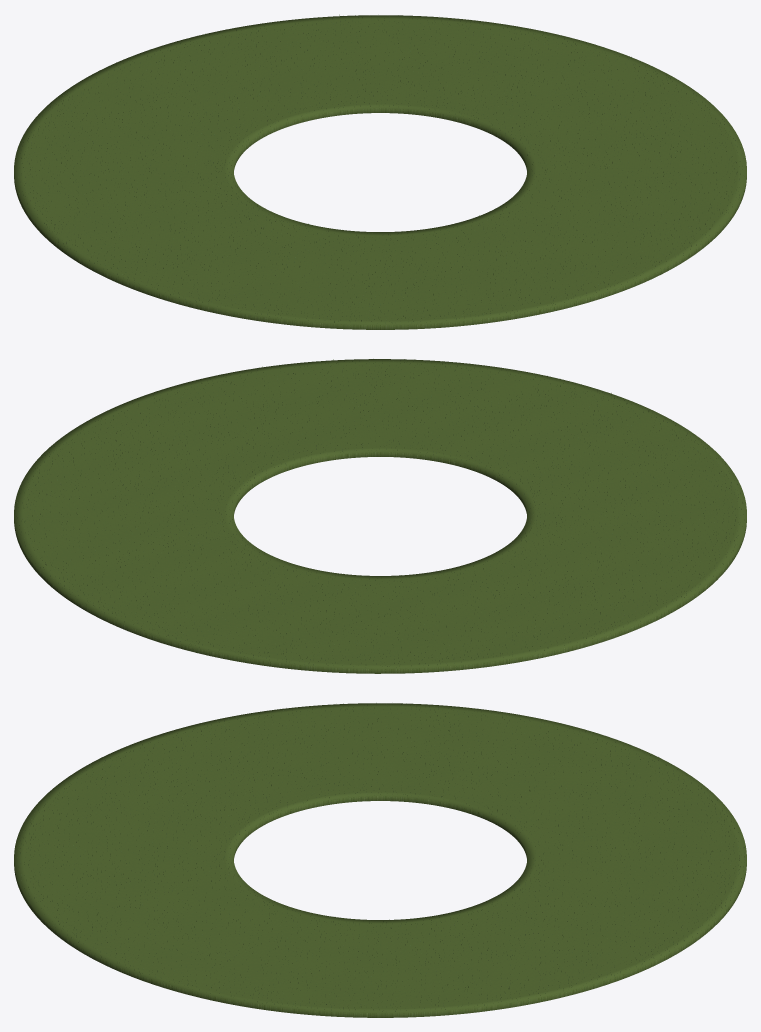
The model's file is arrivalLawnRelief.glb.
3 renders of one model, top to bottom at view 1: azimuth 30°, elevation 25°; view 2: azimuth 150°, elevation 25°; view 3: azimuth 270°, elevation 25°, orthographic.
Parts seen in each view (by area): view 1: Arrival landscaped turf annulus, Bent grass tile 0 1.001, Bent grass tile 1 1.001, Bent grass tile 0 0.001, Bent grass tile 1 0.001; view 2: Arrival landscaped turf annulus, Bent grass tile 1 0.001, Bent grass tile 0 0.001, Bent grass tile 0 1.001, Bent grass tile 1 1.001; view 3: Arrival landscaped turf annulus, Bent grass tile 0 1.001, Bent grass tile 1 0.001, Bent grass tile 1 1.001, Bent grass tile 0 0.001.
Boxes of the visible parts, bbox=[...] form: Arrival landscaped turf annulus: bbox=[14, 15, 746, 329]; Bent grass tile 0 1.001: bbox=[67, 203, 555, 323]; Bent grass tile 1 1.001: bbox=[462, 93, 744, 302]; Bent grass tile 0 0.001: bbox=[17, 38, 302, 246]; Bent grass tile 1 0.001: bbox=[205, 14, 693, 134]; Arrival landscaped turf annulus: bbox=[14, 359, 746, 673]; Bent grass tile 1 0.001: bbox=[16, 437, 296, 643]; Bent grass tile 0 0.001: bbox=[199, 545, 690, 667]; Bent grass tile 0 1.001: bbox=[460, 379, 742, 587]; Bent grass tile 1 1.001: bbox=[71, 359, 550, 480]; Arrival landscaped turf annulus: bbox=[14, 703, 746, 1017]; Bent grass tile 0 1.001: bbox=[16, 703, 379, 857]; Bent grass tile 1 0.001: bbox=[380, 857, 744, 1011]; Bent grass tile 1 1.001: bbox=[17, 857, 379, 1010]; Bent grass tile 0 0.001: bbox=[380, 703, 744, 857].
Bounding box in the file's own units: 40 × 0.449 × 40.
2 materials, 1 textured.
